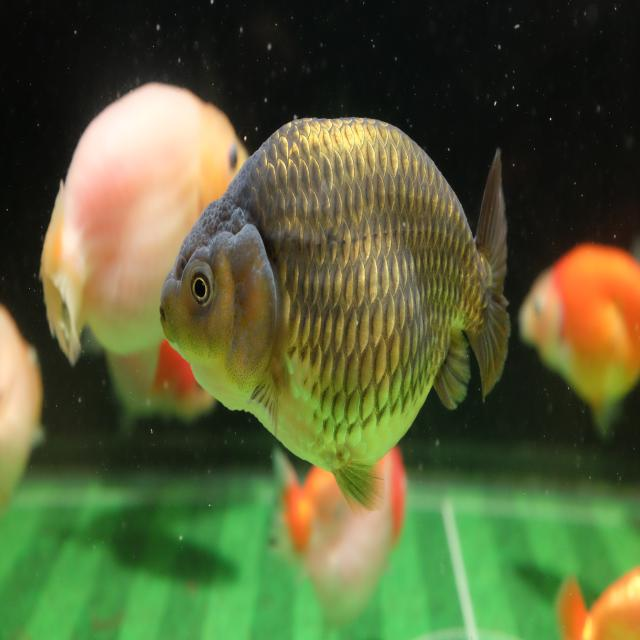Tilapia: (158, 113, 511, 520), (38, 80, 249, 368), (517, 244, 640, 431)
